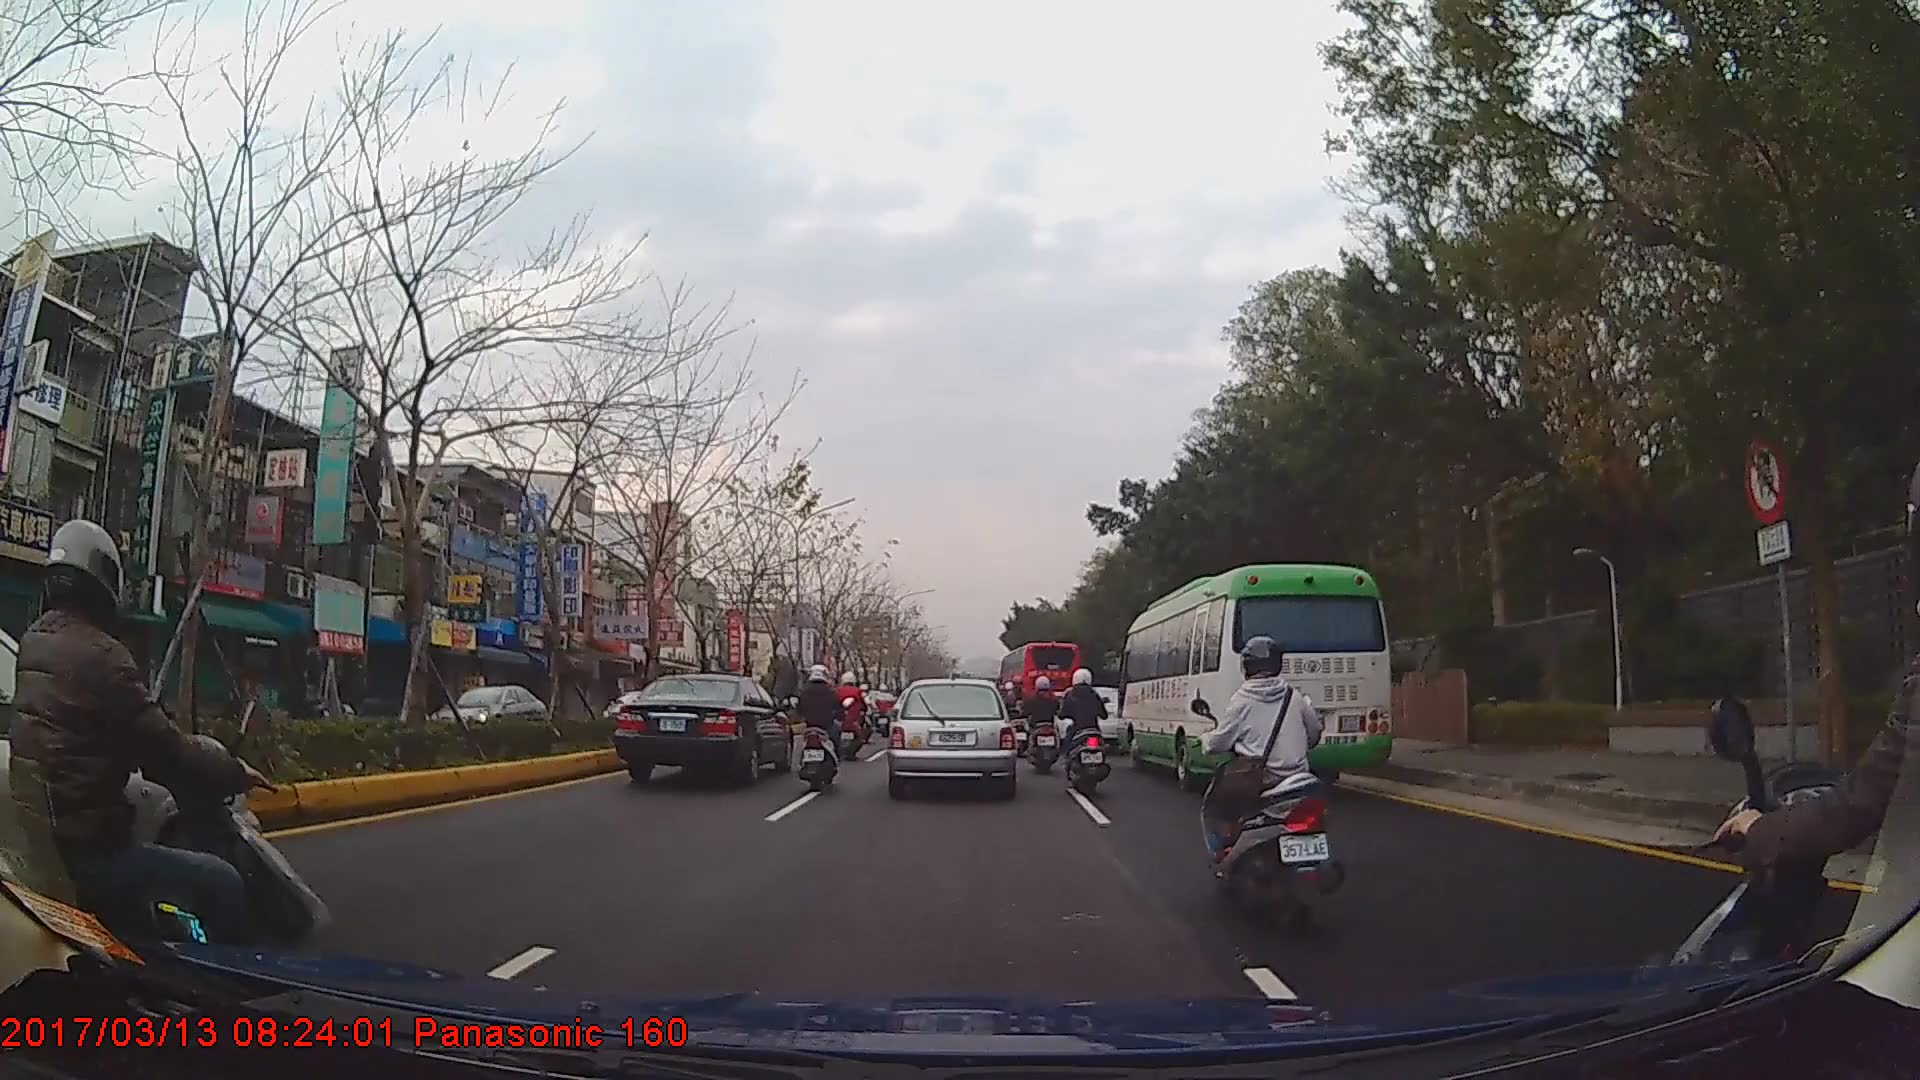rider: (1, 507, 311, 1025), (1198, 637, 1343, 930), (796, 665, 851, 796), (1060, 669, 1111, 795), (1024, 674, 1064, 775), (835, 673, 870, 760), (1007, 676, 1031, 756), (853, 687, 879, 743), (875, 683, 897, 727)
vehicle: (1117, 562, 1394, 796), (610, 673, 795, 786), (886, 677, 1015, 799), (998, 639, 1082, 735), (430, 683, 546, 749)
